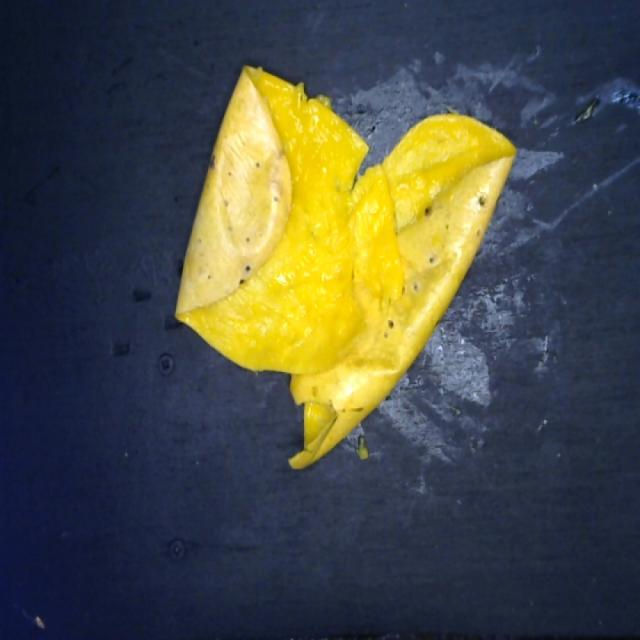biodegradable: (165, 57, 520, 474)
